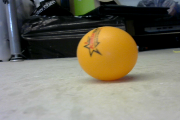PingPongBall: (77, 27, 137, 82)
